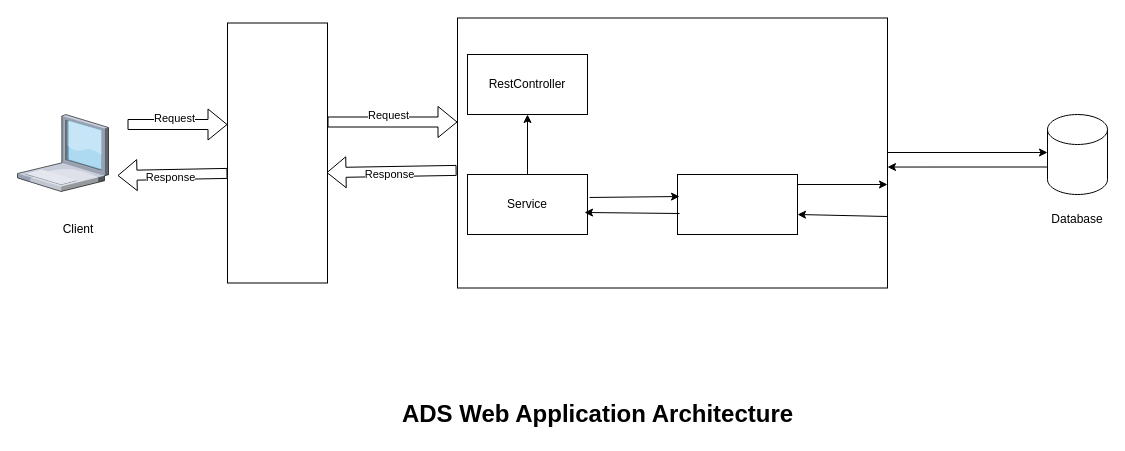
Some shapes in this 1125 by 451 pixel diagram are drawn without their labels. Here are the shapes that lost their labels. From the top down, the box of each, then its label:
(226, 22, 328, 283): React SPA with HTML, CSS and JS
(676, 174, 798, 234): Repository
